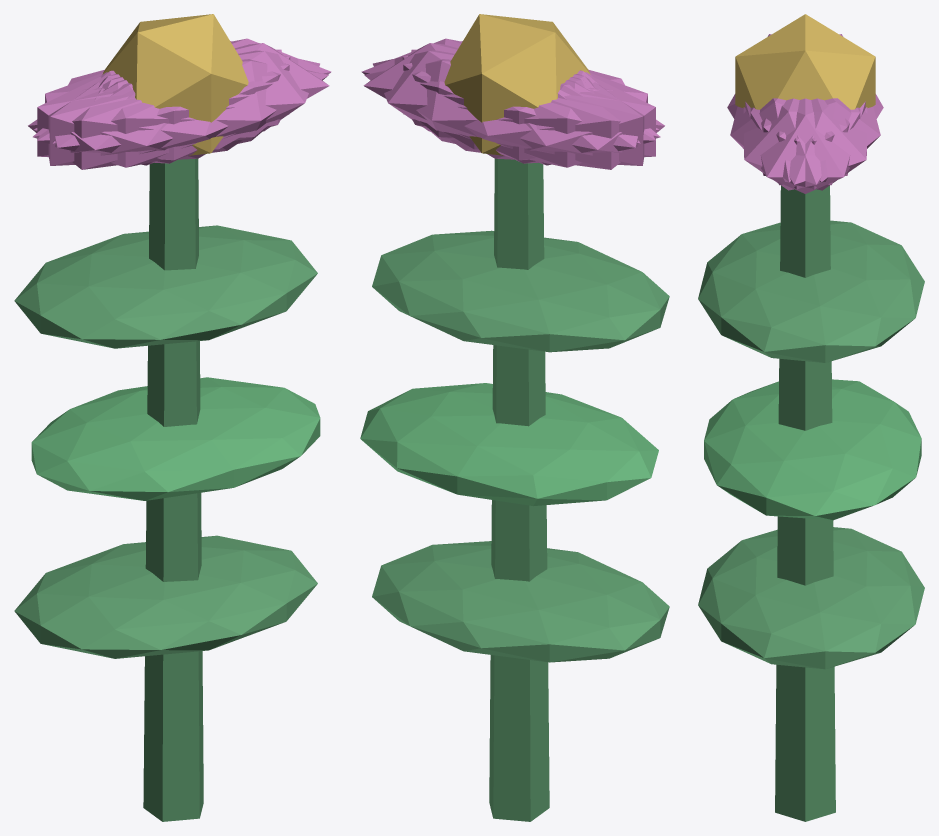
The model's file is rungia-taiwanensis.glb.
3 renders of one model, left to right at view 1: azimuth 30°, elevation 25°; view 2: azimuth 150°, elevation 25°; view 3: azimuth 270°, elevation 25°, orthographic.
Parts seen in each view (by area): view 1: leaf2, leaf0, leaf1, stem, center, petal1, petal6, petal2, petal5, petal7, petal0, petal4 (+2 smaller); view 2: leaf1, leaf2, leaf0, stem, center, petal8, petal3, petal7, petal4, petal2, petal0, petal5 (+2 smaller); view 3: leaf2, leaf1, leaf0, stem, center, petal0, petal4, petal5, petal8, petal1.
Boxes of the visible parts, <box> form: leaf2: <box>14,225,317,348</box>; leaf0: <box>14,535,317,658</box>; leaf1: <box>31,377,320,500</box>; stem: <box>143,158,203,821</box>; center: <box>102,14,248,155</box>; petal1: <box>33,59,328,167</box>; petal6: <box>28,72,242,169</box>; petal2: <box>48,49,281,165</box>; petal5: <box>52,50,319,160</box>; petal7: <box>37,55,290,163</box>; petal0: <box>102,43,329,149</box>; petal4: <box>34,38,331,140</box>; leaf1: <box>360,383,658,506</box>; leaf2: <box>372,230,669,352</box>; leaf0: <box>372,541,669,662</box>; stem: <box>489,158,549,821</box>; center: <box>444,14,590,155</box>; petal8: <box>364,59,660,167</box>; petal3: <box>451,72,664,169</box>; petal7: <box>411,49,644,165</box>; petal4: <box>373,50,640,160</box>; petal2: <box>402,55,655,163</box>; petal0: <box>363,43,590,149</box>; petal5: <box>361,38,658,140</box>; leaf2: <box>698,220,924,362</box>; leaf1: <box>704,379,921,520</box>; leaf0: <box>698,527,924,669</box>; stem: <box>775,185,835,821</box>; center: <box>735,14,875,109</box>; petal0: <box>745,98,865,193</box>; petal4: <box>750,98,867,190</box>; petal5: <box>743,98,860,190</box>; petal8: <box>761,98,880,182</box>; petal1: <box>730,98,849,182</box>.
Bounding box in the file's own units: 0.1452 × 0.3742 × 0.0992.
